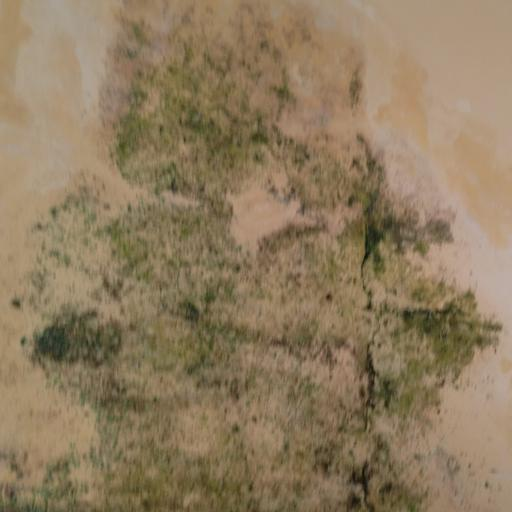algae: (63, 30, 475, 512)
